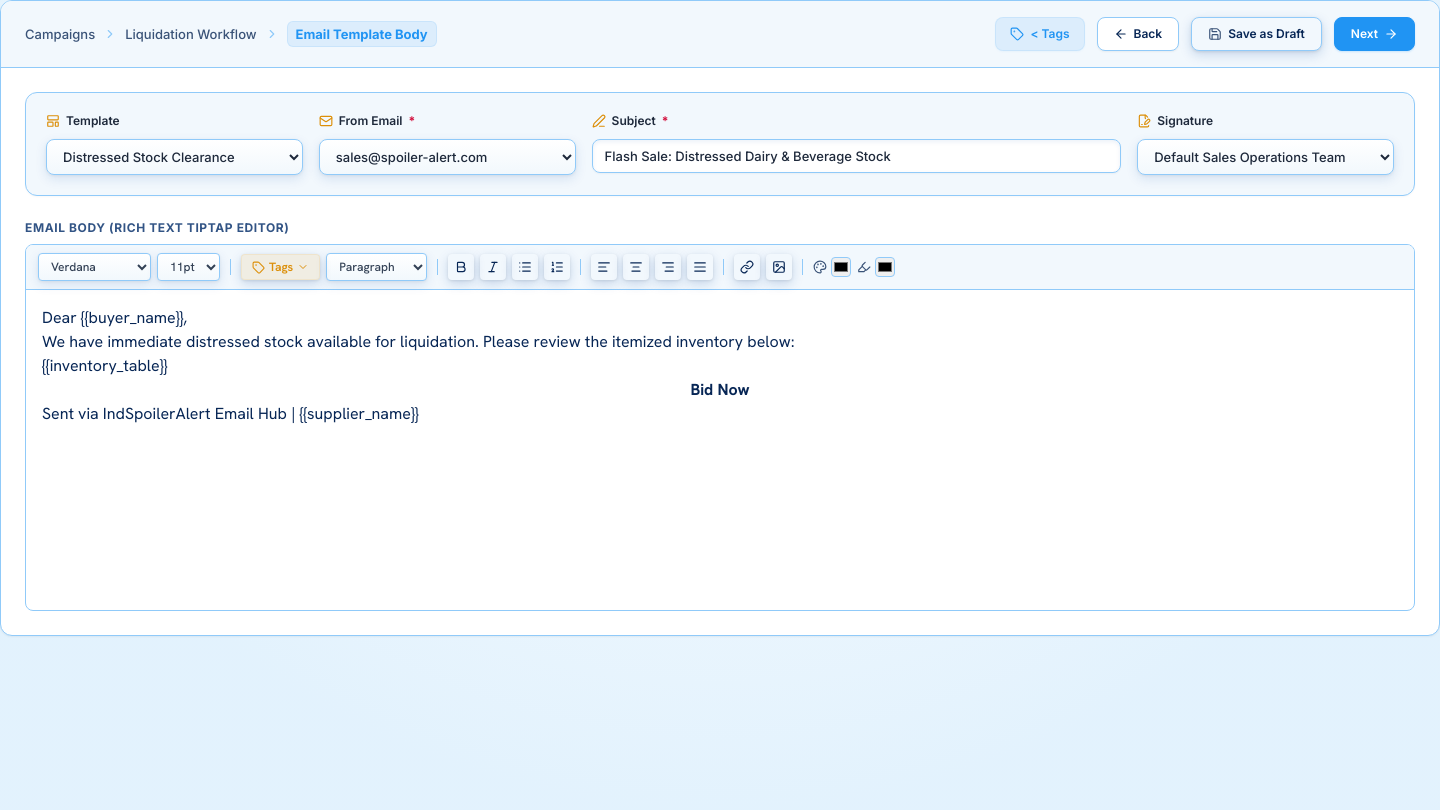
Test: EmailMetadataForm & TagsDrawer - Slice 3 TDD › Seam 3: WorkflowEmailBuilder Integration › toggles slide-out TagsDrawer when toggle button is clicked
Click the button with test id "tags-drawer-toggle" at (1040, 34), box [995,17,1084,51]
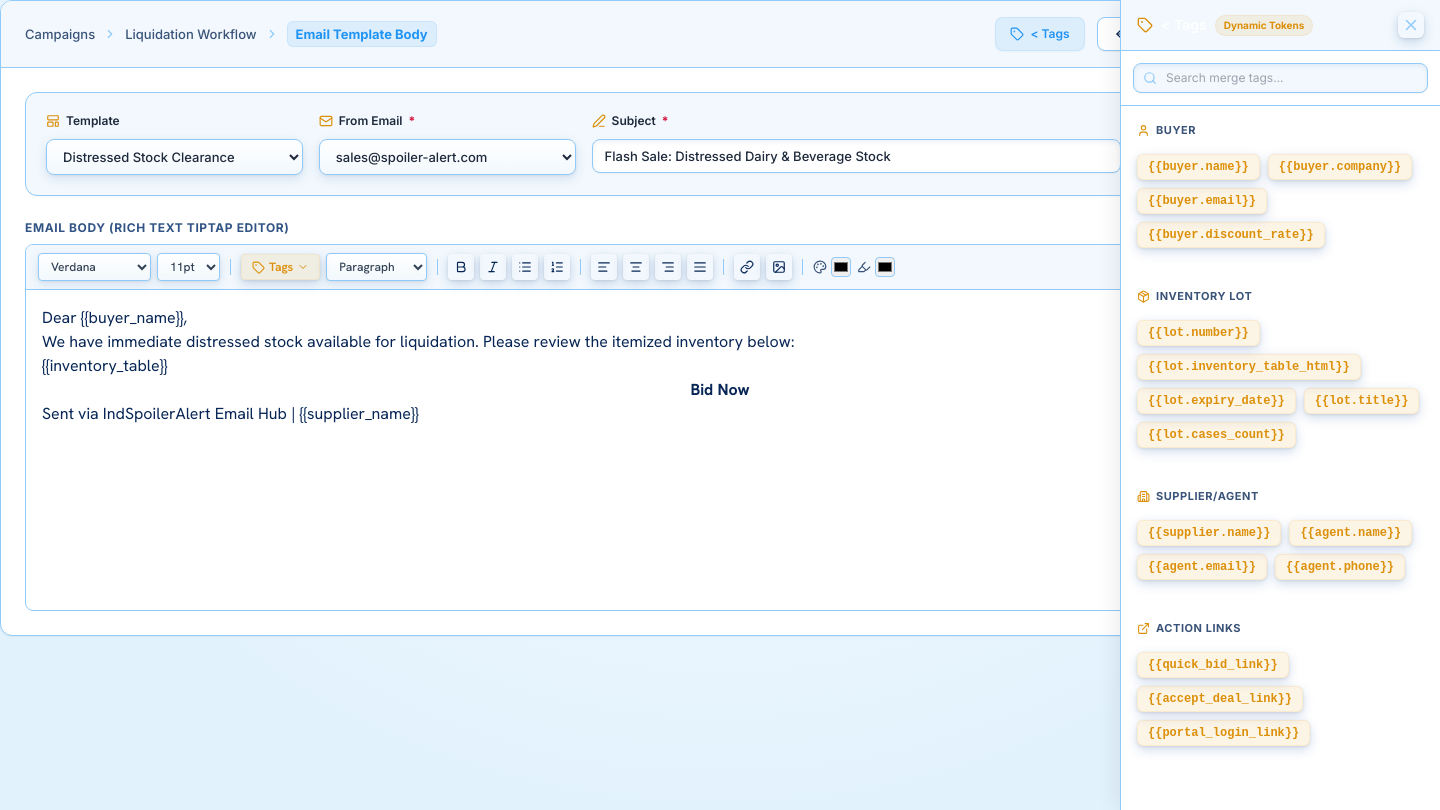
Check: the element with test id "tags-drawer-panel" is shown, box [1120,0,1439,809]
Click the button named "close" at (1411, 25), box [1398,12,1424,38]
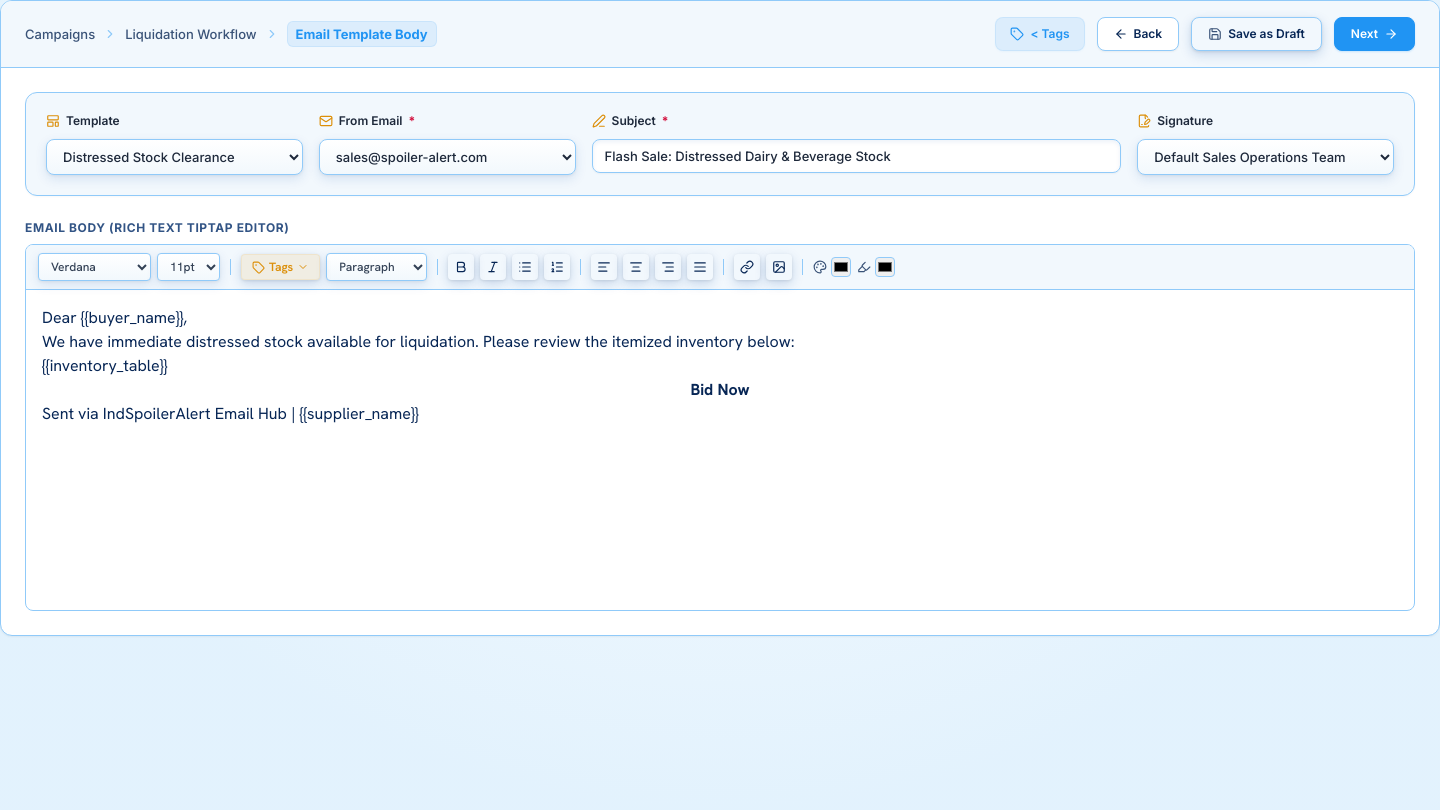
Check: the element with test id "tags-drawer-panel" is gone
